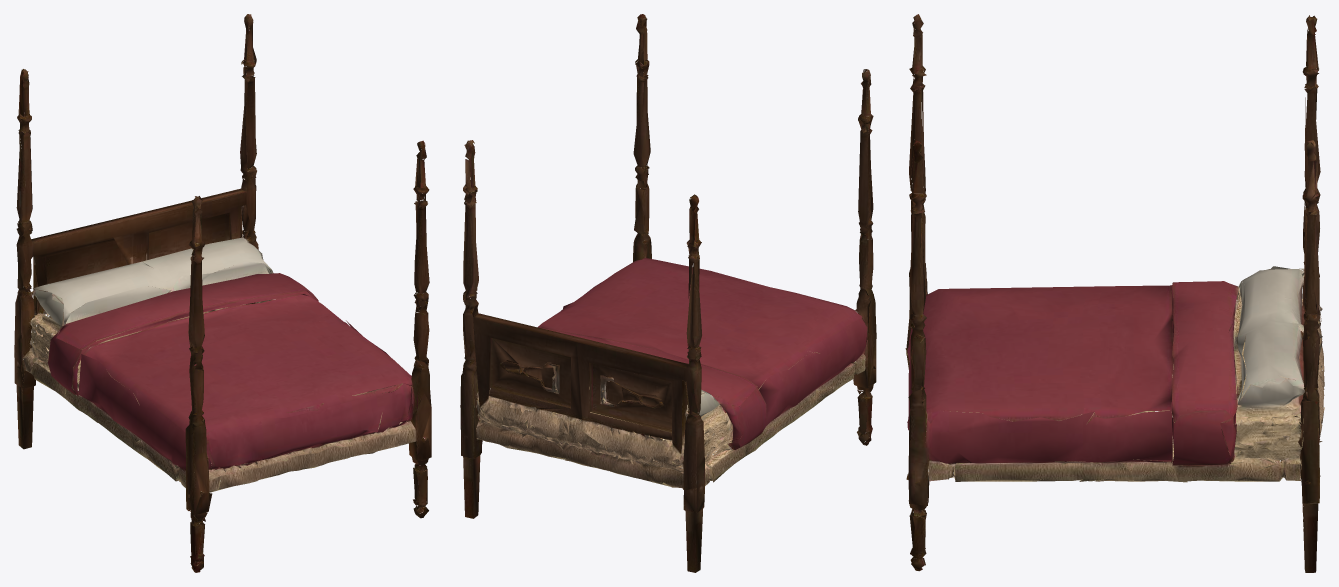
The model's file is bed-fourpost.glb.
3 views of the same model, side by side, from view 1: azimuth 30°, elevation 25°; view 2: azimuth 150°, elevation 25°; view 3: azimuth 270°, elevation 25° (orthographic). The views are drawn at different scales.
Parts seen in each view (by area): view 1: Mesh_0; view 2: Mesh_0; view 3: Mesh_0.
Part boxes in pixels (left/top/right/bottom): Mesh_0: left=14, top=14, right=431, bottom=572; Mesh_0: left=460, top=14, right=876, bottom=572; Mesh_0: left=905, top=14, right=1324, bottom=572.
Size of the model in its own units: 1.32 by 1.9 by 1.67.
Materials: 1 (1 with a texture image).
